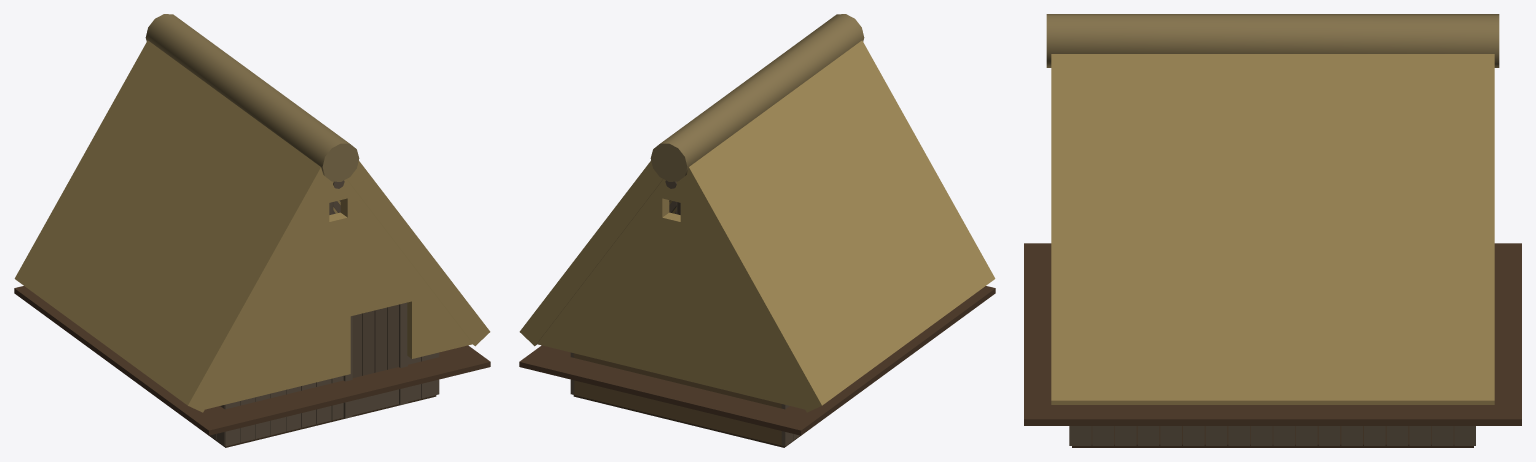
Rendered from grubenhaus-1000.glb.
3 renders of one model, left to right at view 1: azimuth 30°, elevation 25°; view 2: azimuth 150°, elevation 25°; view 3: azimuth 270°, elevation 25°, orthographic. The views are drawn at different scales.
Parts seen in each view (by area): view 1: roof-thatch-west, gable-thatch-south, pit-earth-rim, roof-ridge-roll, roof-thatch-east, door-leaf.02, door-leaf.03, door-leaf.04, door-jamb-right, door-sill-wall, door-plank-01; view 2: roof-thatch-west, gable-thatch-north, pit-earth-rim, roof-ridge-roll, roof-thatch-east, wall-north-wattle, pit-floor; view 3: roof-thatch-east, pit-earth-rim, roof-ridge-roll, pit-floor.
Boxes of the visible parts, x1,y1,x2,y2 form: roof-thatch-west: (14,40,331,412); gable-thatch-south: (205,179,472,409); pit-earth-rim: (14,286,490,435); roof-ridge-roll: (145,14,359,181); roof-thatch-east: (333,160,490,346); door-leaf.02: (362,310,374,375); door-leaf.03: (374,307,386,372); door-leaf.04: (387,304,398,369); door-jamb-right: (399,302,407,405); door-sill-wall: (352,389,398,415); door-plank-01: (352,313,362,377); roof-thatch-west: (678,40,995,412); gable-thatch-north: (537,179,804,409); pit-earth-rim: (519,286,995,435); roof-ridge-roll: (650,14,864,181); roof-thatch-east: (519,160,676,346); wall-north-wattle: (572,353,781,445); pit-floor: (573,395,800,447); roof-thatch-east: (1051,54,1494,404); pit-earth-rim: (1024,243,1521,425); roof-ridge-roll: (1046,14,1499,67); pit-floor: (1072,426,1473,447).
Bounding box in the file's own units: 4.94 × 4.46 × 5.5.
